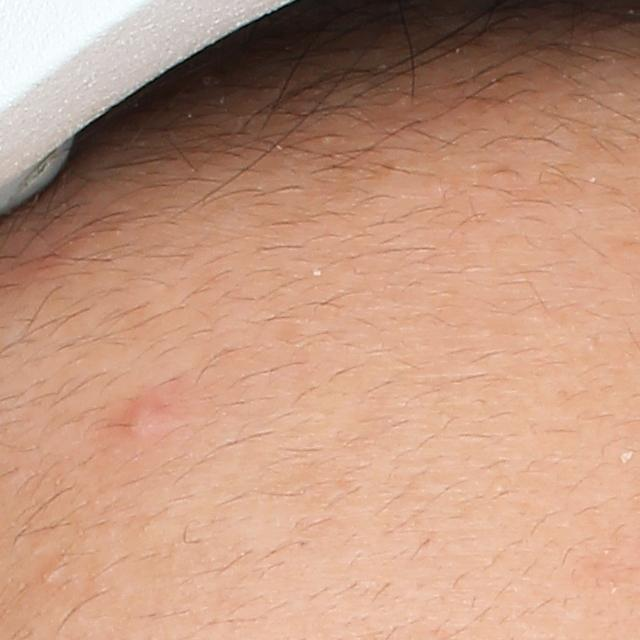papule: (103, 386, 174, 450)
